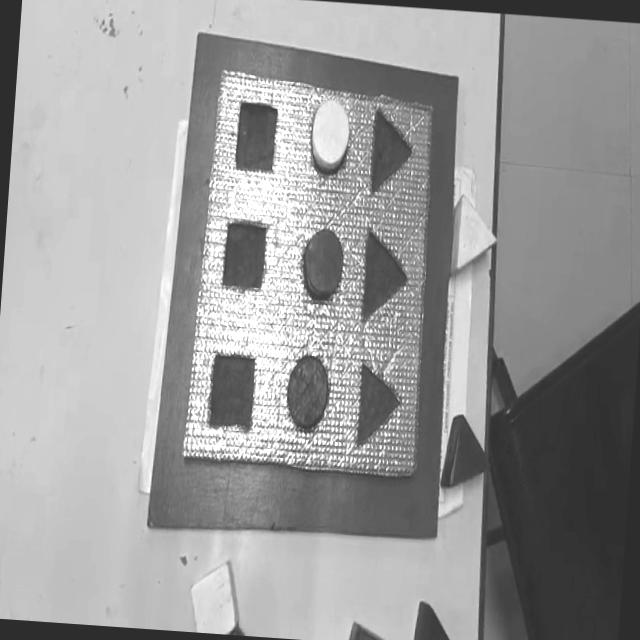btriangle: (411, 601, 459, 640)
mtcircle: (284, 353, 330, 431)
mtcube: (206, 350, 257, 431), (220, 218, 268, 292), (232, 98, 278, 174)
mttriangle: (358, 228, 412, 328), (368, 104, 416, 198), (354, 360, 404, 448)
rcircle: (300, 224, 346, 301)
rcube: (440, 414, 490, 492)
rtriangle: (346, 621, 392, 640)
wb: (182, 66, 444, 480)
ycircle: (308, 96, 352, 174)
ycube: (187, 558, 241, 635)
ytriangle: (449, 194, 500, 280)
